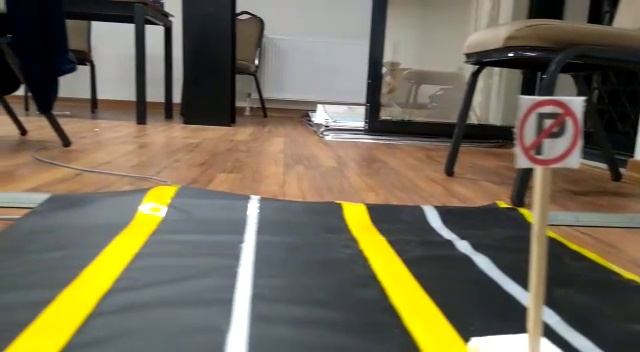park_yapilmaz: (512, 93, 580, 166)
